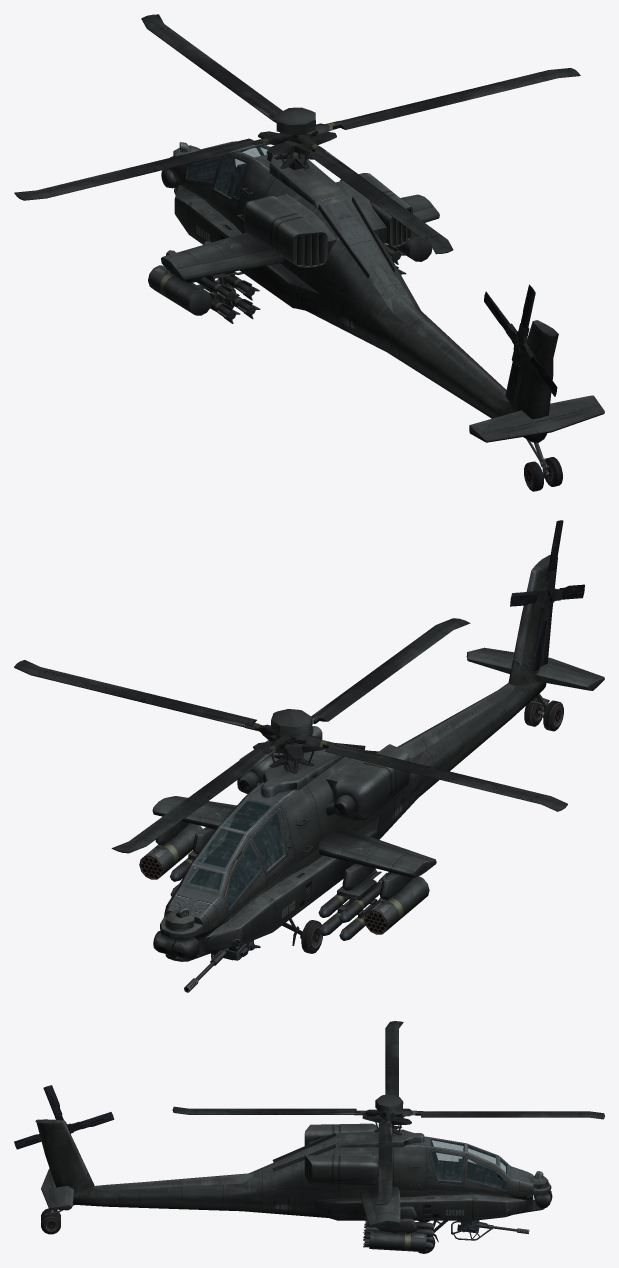
The model's file is apache.glb.
3 views of the same model, one above another, from view 1: azimuth 30°, elevation 25°; view 2: azimuth 150°, elevation 25°; view 3: azimuth 270°, elevation 25° (orthographic). The views are drawn at different scales.
Parts seen in each view (by area): view 1: AH64_APACHE, glass; view 2: AH64_APACHE, glass; view 3: AH64_APACHE, glass.
Boxes of the visible parts, left/top/right/bottom form: AH64_APACHE: left=14, top=14, right=604, bottom=491; glass: left=186, top=142, right=268, bottom=198; AH64_APACHE: left=14, top=520, right=604, bottom=992; glass: left=185, top=799, right=285, bottom=909; AH64_APACHE: left=14, top=1021, right=604, bottom=1253; glass: left=430, top=1138, right=532, bottom=1197.
Bounding box in the file's own units: 28.95 × 10.91 × 39.58.
2 materials, 2 textured.
